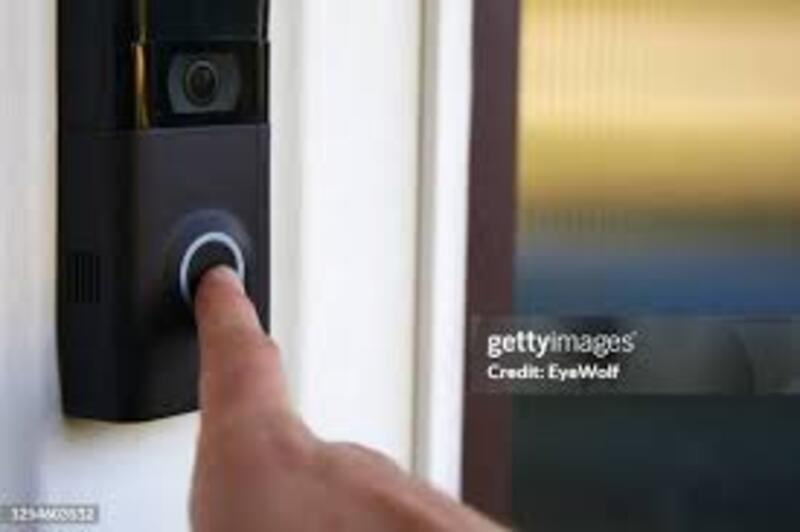doorbell: (53, 8, 292, 415)
